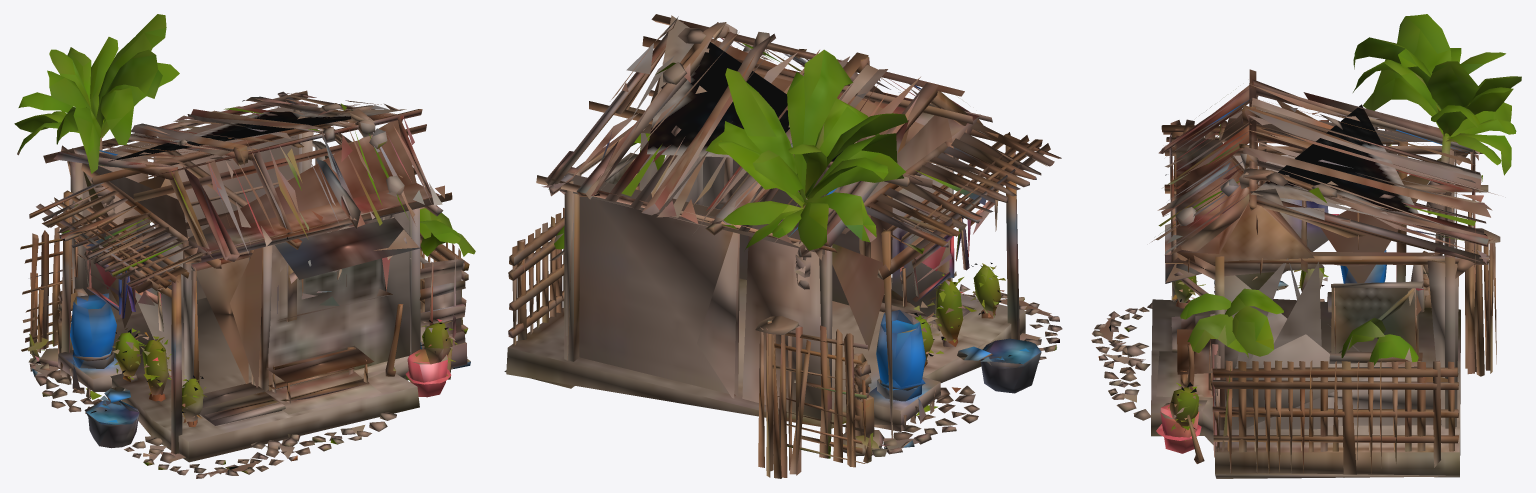
The model's file is house_1.glb.
The picture shows the model from 3 angles, left to right: view 1: azimuth 30°, elevation 25°; view 2: azimuth 150°, elevation 25°; view 3: azimuth 270°, elevation 25°; orthographic projection. The views are drawn at different scales.
Parts seen in each view (by area): view 1: Mesh0; view 2: Mesh0; view 3: Mesh0.
Boxes of the visible parts, x1,y1,x2,y2 form: Mesh0: (14, 14, 475, 478); Mesh0: (504, 14, 1062, 478); Mesh0: (1091, 14, 1521, 478).
Bounding box in the file's own units: 0.9997 × 0.8719 × 0.9982.
Materials: 1 (1 with a texture image).
